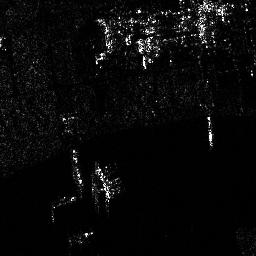ship: (69, 148, 84, 190)
